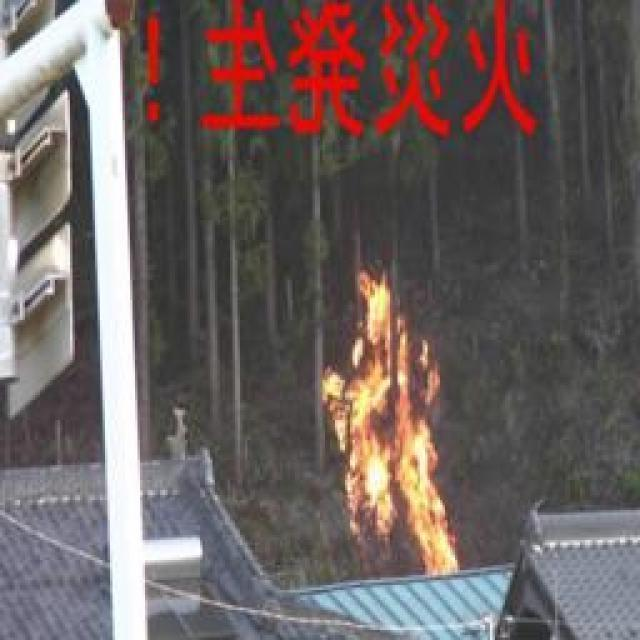Fire: (313, 269, 452, 578)
